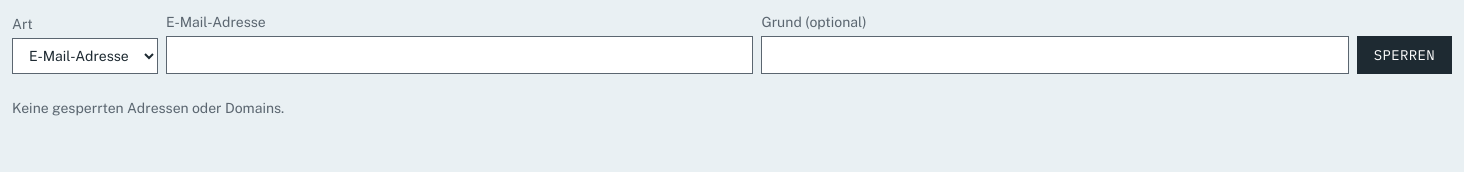
Test: AdminBlocklistPage › adds a blocked domain via the kind selector
Expected: the text "Keine gesperrten Adressen oder Domains." is shown, x1=12 y1=100 x2=284 y2=116
Select "Domain" in the dropdown labelled "Art" at (85, 56), box x1=12 y1=38 x2=158 y2=74
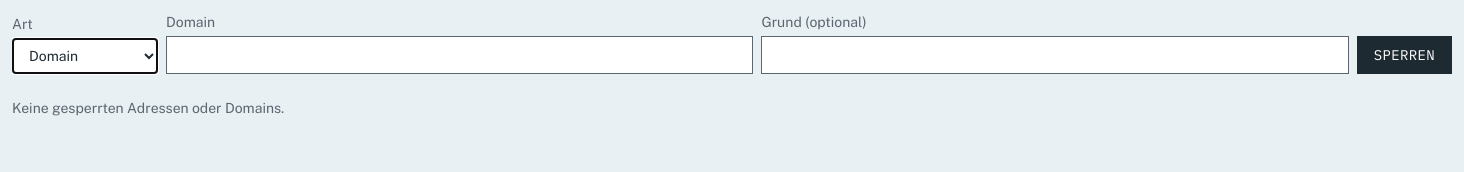
Type "spammy.example" into the field labelled "Domain" at (460, 55), box x1=166 y1=36 x2=753 y2=74
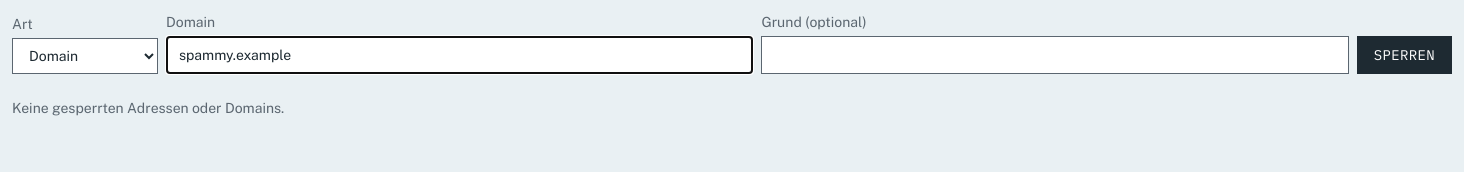
Click the button "Sperren" at (1404, 55), box x1=1357 y1=36 x2=1452 y2=74
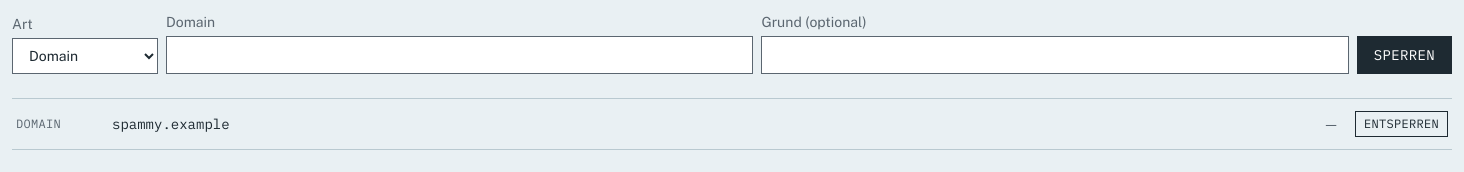
Expected: the text "spammy.example" is shown, x1=112 y1=115 x2=230 y2=133
